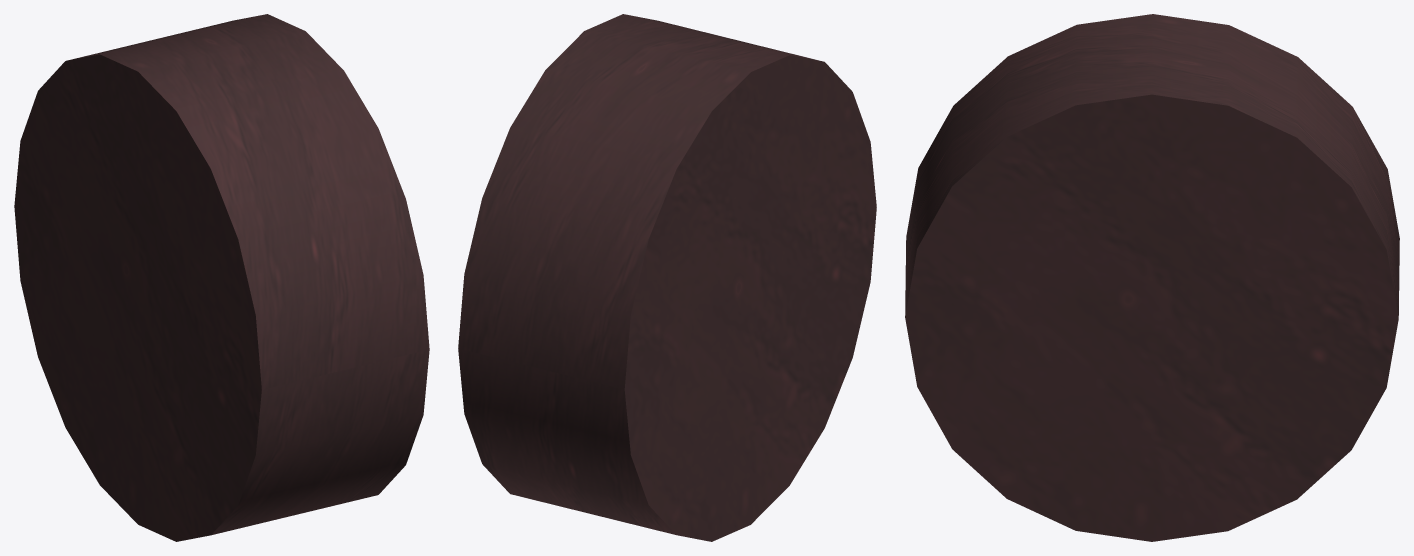
Rendered from SpinningCylinder (19).fbx.
3 renders of one model, left to right at view 1: azimuth 30°, elevation 25°; view 2: azimuth 150°, elevation 25°; view 3: azimuth 270°, elevation 25°, orthographic.
Visible parts, largest first — view 1: SpinningCylinder__19_; view 2: SpinningCylinder__19_; view 3: SpinningCylinder__19_.
Part boxes in pixels (box(x1,y1,x2,y2)): SpinningCylinder__19_: box(14, 14, 429, 541); SpinningCylinder__19_: box(458, 14, 876, 541); SpinningCylinder__19_: box(905, 14, 1399, 541).
Bounding box in the file's own units: 1153 × 2943 × 2949.
